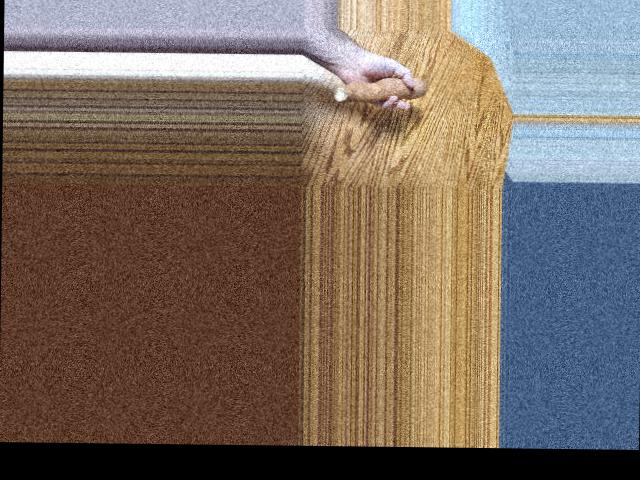sweet_potato: (330, 81, 432, 106)
